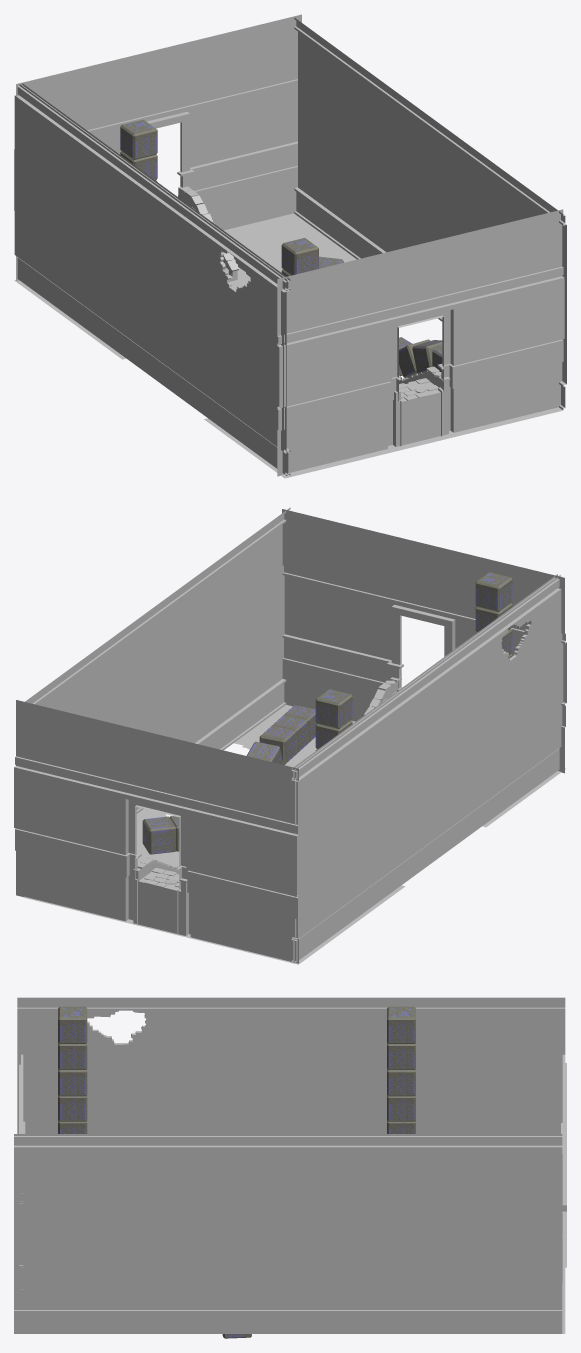
The model's file is Salle 1.FBX.
The picture shows the model from 3 angles, top to bottom: view 1: azimuth 30°, elevation 25°; view 2: azimuth 150°, elevation 25°; view 3: azimuth 270°, elevation 25°; orthographic projection. The views are drawn at different scales.
Visible parts, largest first — view 1: grand mur003, mur006, grand mur004, mur007, StraightStair003, sol014, pillier020, sol001, pillier018, sol013, pillier019, StraightStair004; view 2: grand mur003, mur007, grand mur004, mur006, StraightStair004, pillier018, pillier019, pillier020, pillier017, sol006, sol014; view 3: grand mur004, grand mur003, pillier019, pillier020, mur007.
Boxes of the visible parts, left/top/right/bottom form: grand mur003: left=14, top=83, right=290, bottom=475; mur006: left=277, top=209, right=564, bottom=476; grand mur004: left=294, top=17, right=566, bottom=409; mur007: left=14, top=14, right=301, bottom=280; StraightStair003: left=393, top=366, right=450, bottom=446; sol014: left=14, top=213, right=319, bottom=299; pillier020: left=120, top=119, right=157, bottom=181; sol001: left=258, top=407, right=562, bottom=478; pillier018: left=399, top=337, right=442, bottom=377; sol013: left=41, top=232, right=346, bottom=319; pillier019: left=281, top=238, right=318, bottom=276; StraightStair004: left=178, top=186, right=239, bottom=281; grand mur003: left=291, top=574, right=563, bottom=963; mur007: left=14, top=700, right=298, bottom=963; grand mur004: left=25, top=507, right=290, bottom=813; mur006: left=282, top=509, right=566, bottom=773; StraightStair004: left=133, top=858, right=188, bottom=935; pillier018: left=246, top=705, right=316, bottom=764; pillier019: left=475, top=572, right=512, bottom=658; pillier020: left=315, top=689, right=352, bottom=750; pillier017: left=142, top=816, right=179, bottom=854; sol006: left=237, top=721, right=538, bottom=807; sol014: left=23, top=896, right=324, bottom=964; grand mur004: left=14, top=1134, right=562, bottom=1333; grand mur003: left=17, top=997, right=565, bottom=1133; pillier019: left=58, top=1006, right=87, bottom=1133; pillier020: left=387, top=1006, right=415, bottom=1133; mur007: left=561, top=1054, right=566, bottom=1291.
Size of the model in its own units: 618 by 464 by 1003.
